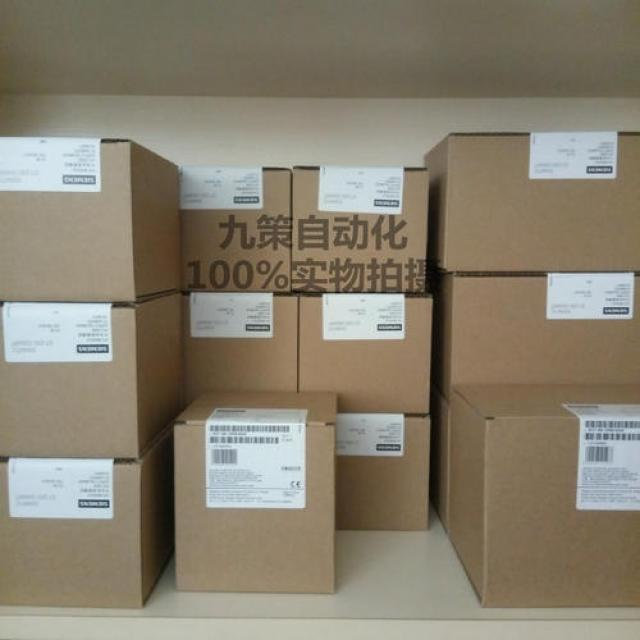box: (447, 384, 640, 608), (174, 390, 339, 595), (424, 131, 640, 271), (0, 136, 182, 302), (0, 293, 182, 458), (438, 271, 640, 402), (292, 166, 430, 293), (298, 293, 433, 416), (180, 168, 291, 292), (180, 293, 300, 407), (335, 412, 431, 530), (431, 398, 451, 534)
